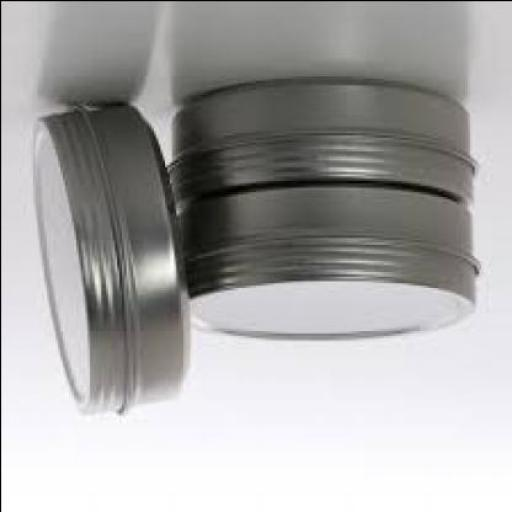metal: (27, 100, 190, 419), (180, 182, 474, 342), (166, 88, 469, 206)
